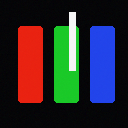4 line_v: (69, 12, 75, 70)
